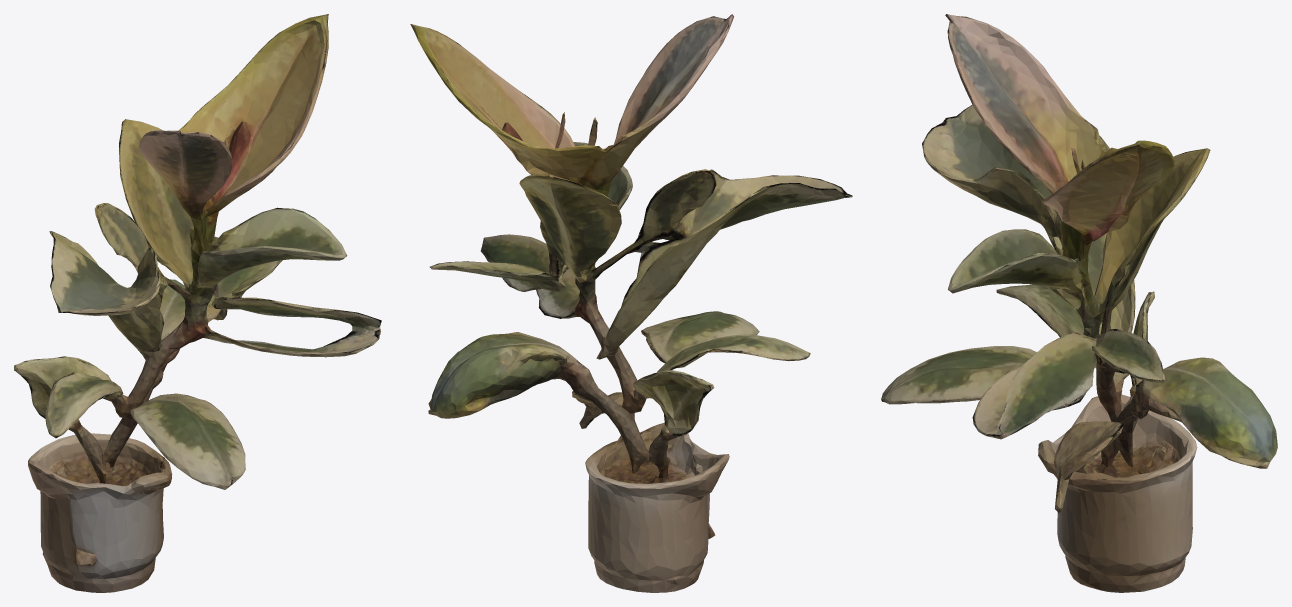
Rendered from ast_5994f5b4f77c.glb.
3 renders of one model, left to right at view 1: azimuth 30°, elevation 25°; view 2: azimuth 150°, elevation 25°; view 3: azimuth 270°, elevation 25°, orthographic. The views are drawn at different scales.
Parts seen in each view (by area): view 1: geometry_0; view 2: geometry_0; view 3: geometry_0.
Part boxes in pixels (<box>): geometry_0: <box>14,14,381,592</box>; geometry_0: <box>410,14,852,592</box>; geometry_0: <box>881,14,1277,592</box>.
Bounding box in the file's own units: 0.5745 × 0.7724 × 0.5001.
Materials: 1 (1 with a texture image).
